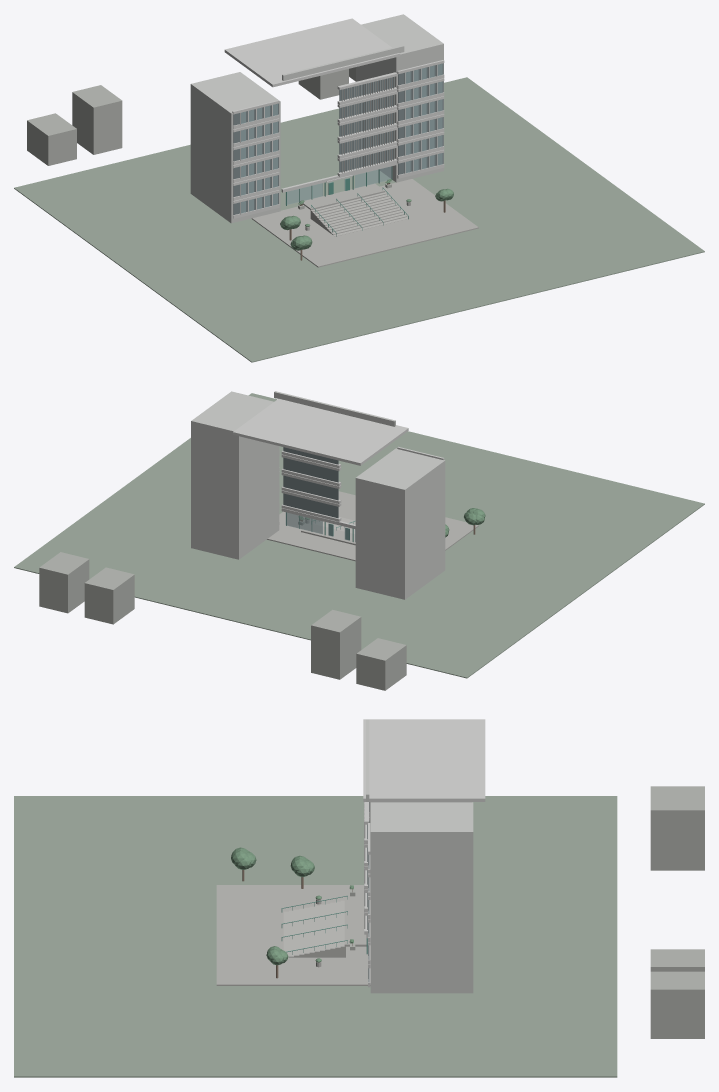
Rendered from chula_exterior_v02.glb.
3 renders of one model, top to bottom at view 1: azimuth 30°, elevation 25°; view 2: azimuth 150°, elevation 25°; view 3: azimuth 270°, elevation 25°, orthographic. The views are drawn at different scales.
Parts seen in each view (by area): view 1: batched_ground, batched_white, batched_ivory, batched_concrete, batched_dark, batched_planter, batched_window, batched_stairs, batched_leaf, batched_greenrail; view 2: batched_ground, batched_ivory, batched_planter, batched_white, batched_concrete, batched_dark, batched_window; view 3: batched_ground, batched_ivory, batched_concrete, batched_white, batched_planter, batched_stairs, batched_leaf.
Part boxes in pixels (x1,y1,x2,y2): batched_ground: (14, 77, 704, 362); batched_white: (224, 18, 444, 218); batched_ivory: (190, 14, 443, 223); batched_concrete: (251, 179, 478, 267); batched_dark: (233, 63, 443, 214); batched_planter: (27, 67, 391, 209); batched_window: (241, 64, 442, 213); batched_stairs: (310, 192, 408, 236); batched_leaf: (280, 179, 453, 250); batched_greenrail: (286, 166, 408, 236); batched_ground: (14, 393, 704, 678); batched_ivory: (191, 391, 445, 599); batched_planter: (39, 521, 406, 690); batched_white: (233, 398, 444, 529); batched_concrete: (267, 491, 478, 561); batched_dark: (283, 447, 338, 518); batched_window: (285, 512, 355, 541); batched_ground: (14, 796, 617, 1077); batched_ivory: (364, 719, 473, 993); batched_concrete: (216, 885, 370, 985); batched_white: (363, 719, 485, 987); batched_planter: (350, 786, 704, 1038); batched_stairs: (283, 900, 345, 957); batched_leaf: (231, 847, 353, 965).
Size of the model in its own units: 110 by 33.39 by 114.
